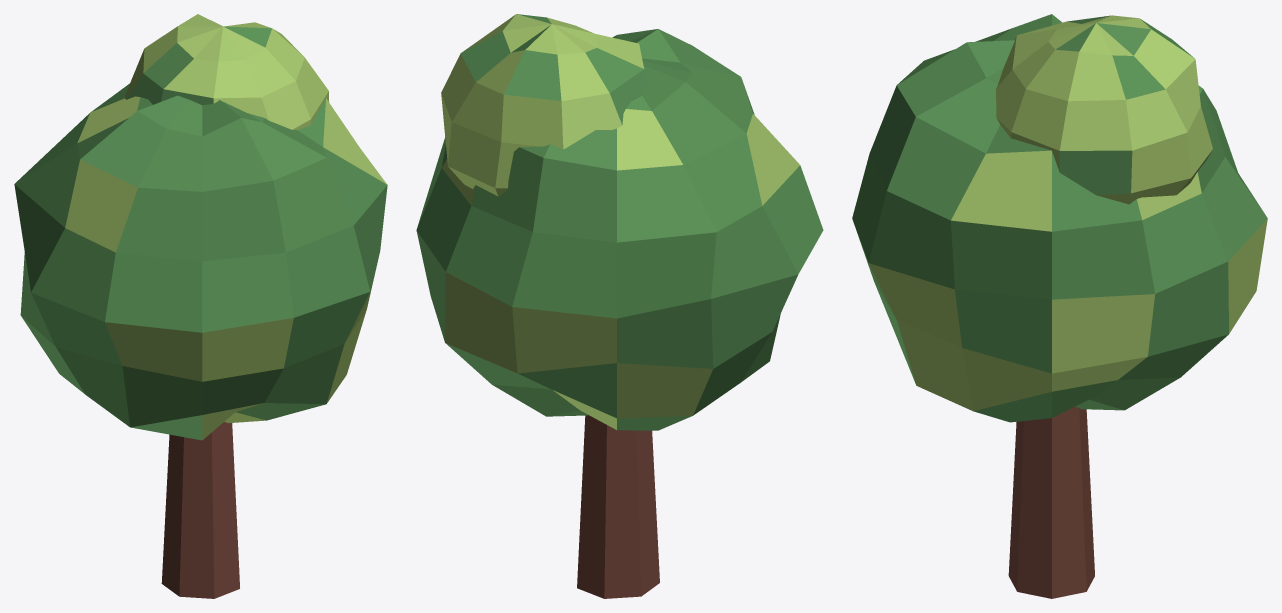
The model's file is round-tree.glb.
3 views of the same model, side by side, from view 1: azimuth 30°, elevation 25°; view 2: azimuth 150°, elevation 25°; view 3: azimuth 270°, elevation 25° (orthographic). The views are drawn at different scales.
Parts seen in each view (by area): view 1: round-tree; view 2: round-tree; view 3: round-tree.
Part boxes in pixels (left/top/right/bottom): round-tree: left=14, top=14, right=387, bottom=598; round-tree: left=416, top=14, right=823, bottom=598; round-tree: left=852, top=14, right=1267, bottom=598.
Bounding box in the file's own units: 1.24 × 1.9 × 1.24.
